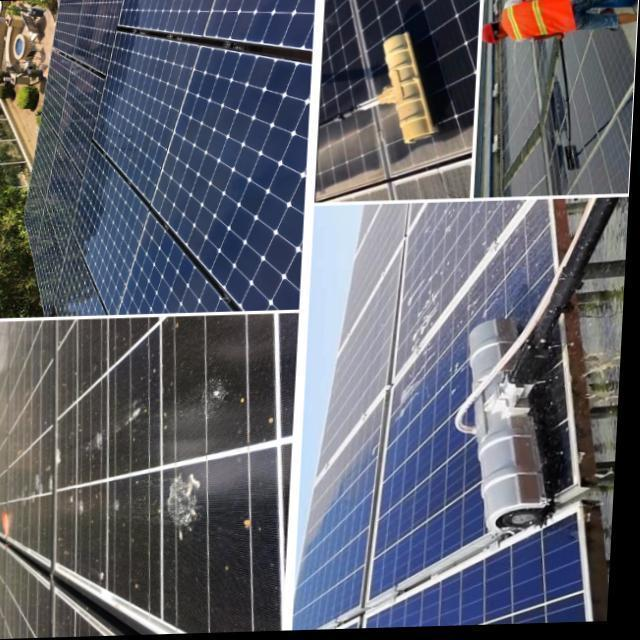Surface Contaminant: (389, 199, 553, 428), (302, 203, 405, 548), (395, 199, 526, 374), (314, 106, 474, 202), (543, 26, 633, 194), (154, 469, 223, 539), (74, 399, 150, 457), (504, 35, 538, 163), (15, 473, 92, 522), (509, 141, 546, 196), (444, 363, 467, 396), (210, 375, 233, 407)
